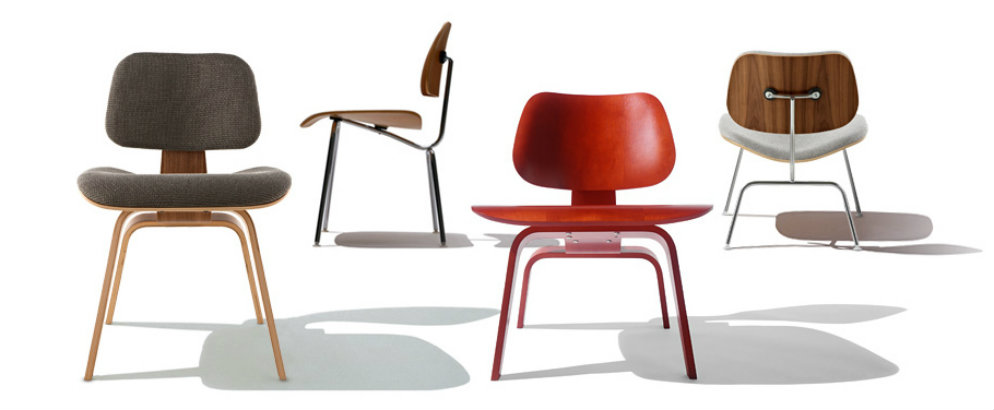chair: (75, 51, 295, 392), (474, 90, 698, 383), (301, 23, 456, 249), (717, 48, 867, 256)
